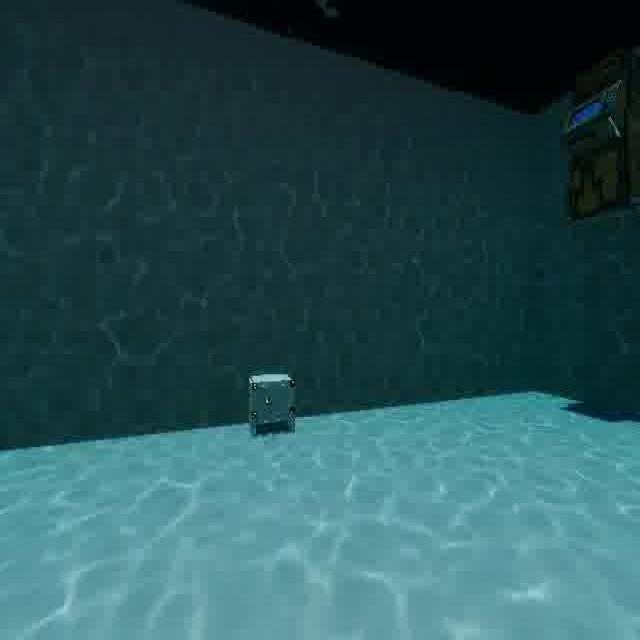Control Panel: (546, 60, 640, 229)
Docking Station: (243, 364, 301, 450)
